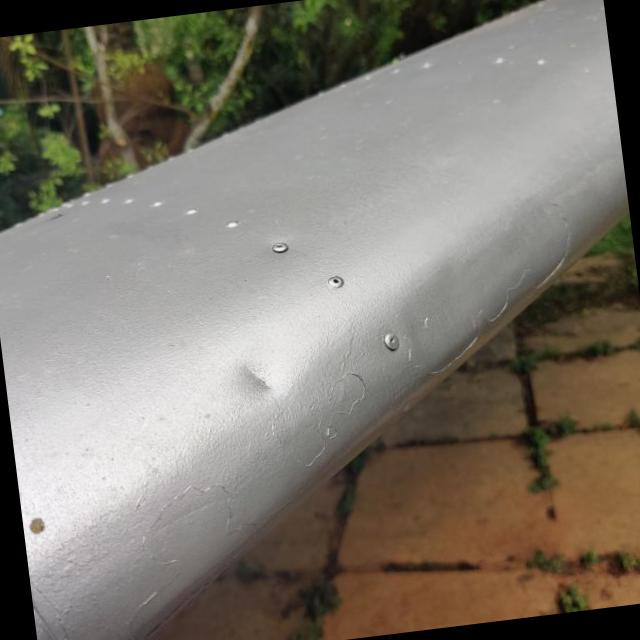Dent: (206, 340, 309, 434)
